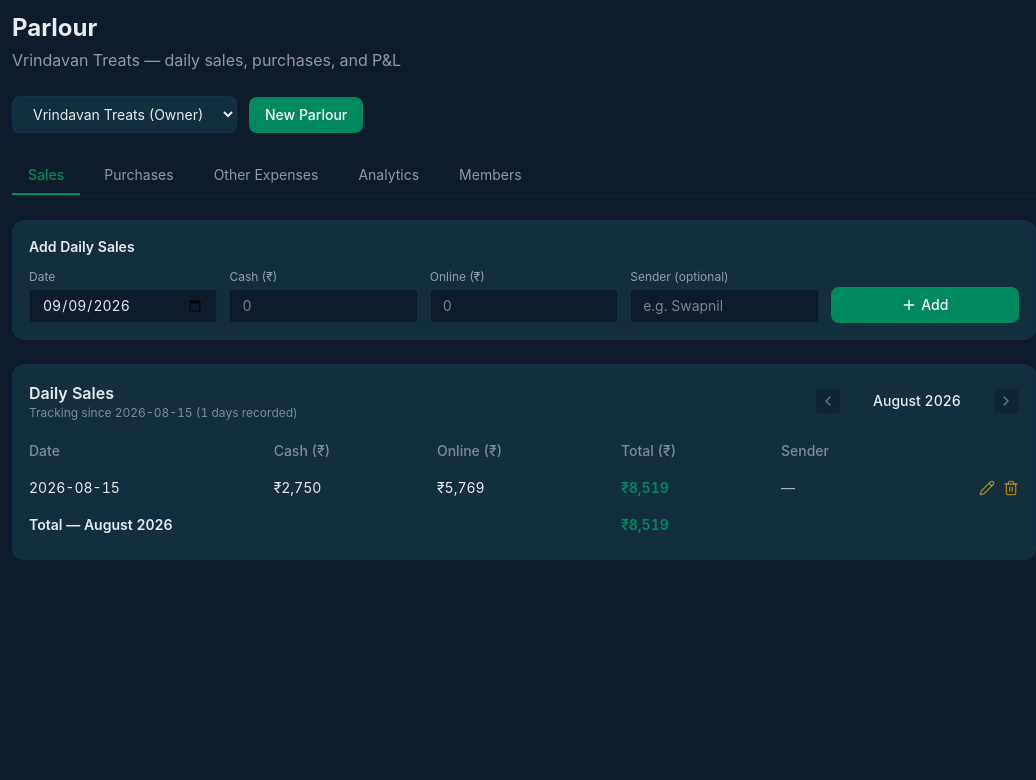
Parlour page › renders summary cards when analytics loaded
Click the button "Analytics" at (389, 176), box left=342, top=157, right=435, bottom=195
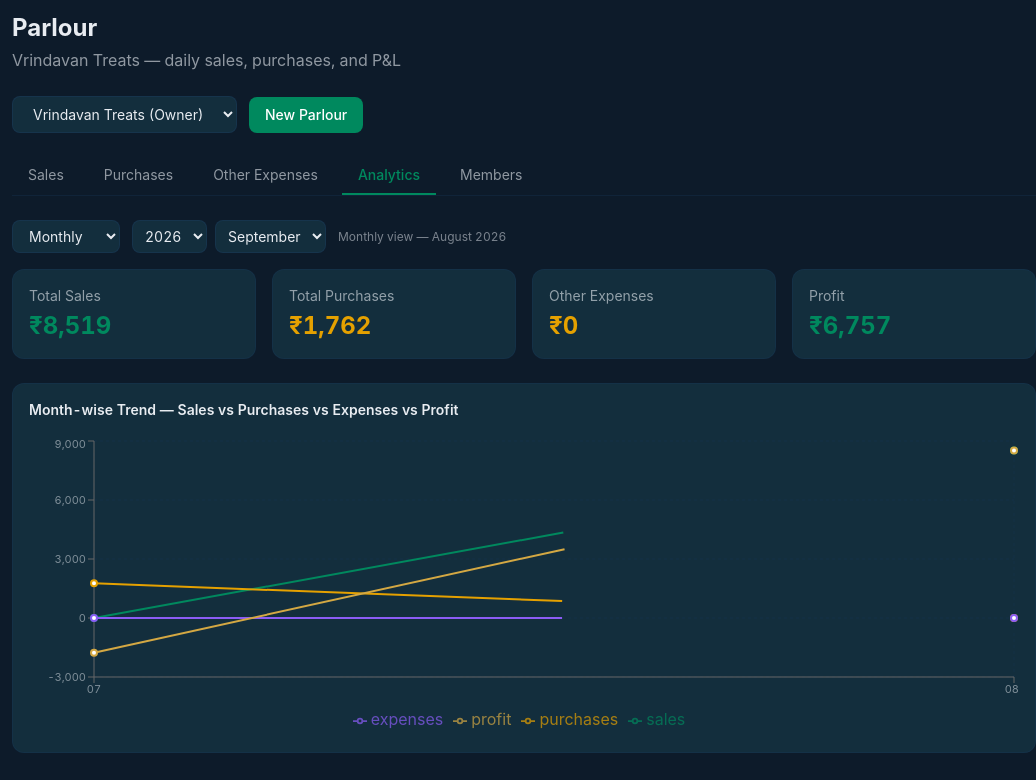
Now the text "Total Sales" is shown, box left=29, top=287, right=101, bottom=304
Now the text "Total Purchases" is shown, box left=289, top=287, right=394, bottom=304
Now the text "Profit" is shown, box left=809, top=287, right=844, bottom=304
